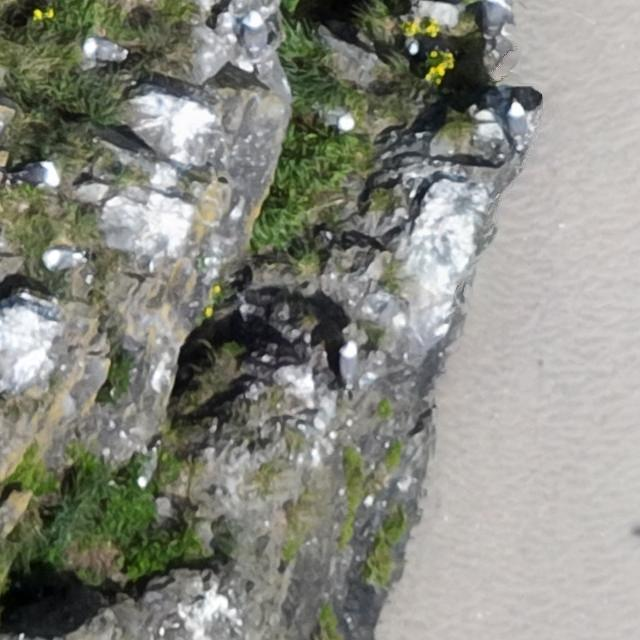umineko: (241, 9, 270, 67), (479, 0, 511, 45), (16, 162, 61, 187), (44, 248, 94, 270), (311, 108, 358, 129), (80, 38, 122, 61), (339, 346, 356, 384), (508, 104, 525, 140), (406, 39, 433, 58)
